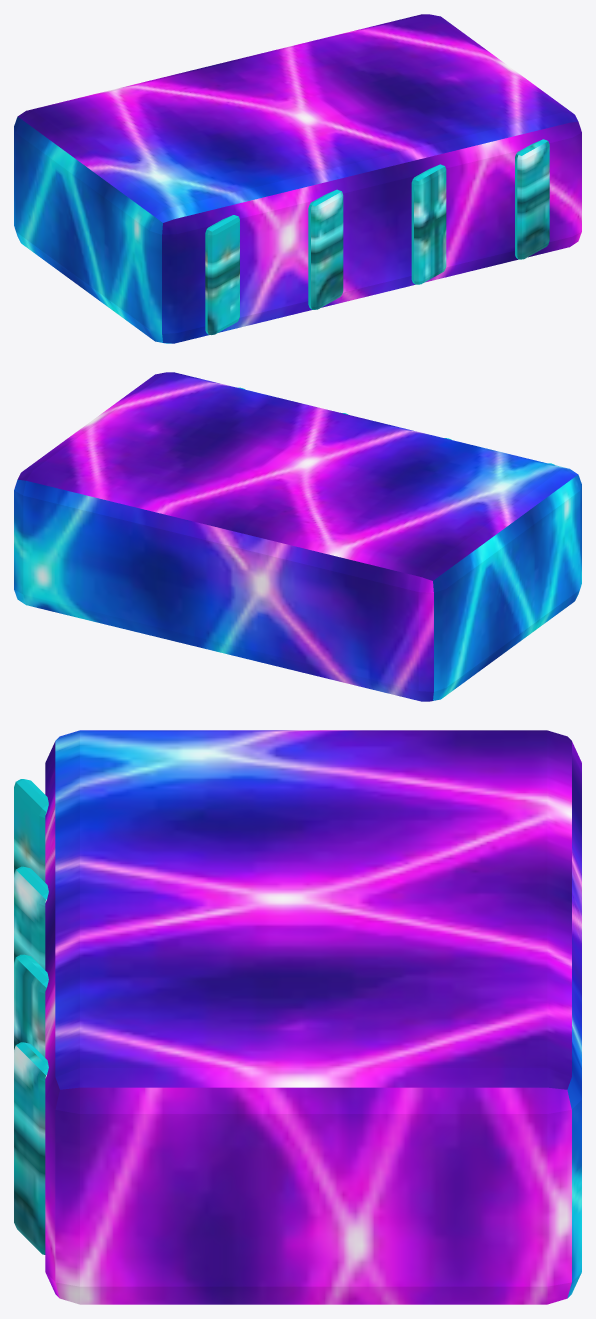
File: turbo_placa.glb
3 views of the same model, one above another, from view 1: azimuth 30°, elevation 25°; view 2: azimuth 150°, elevation 25°; view 3: azimuth 270°, elevation 25° (orthographic). The views are drawn at different scales.
Parts seen in each view (by area): view 1: turbo_placa; view 2: turbo_placa; view 3: turbo_placa.
Part boxes in pixels (box(x1,y1,x2,y2)): turbo_placa: box(14, 14, 581, 343); turbo_placa: box(14, 372, 581, 701); turbo_placa: box(14, 730, 581, 1304).
Bounding box in the file's own units: 1 × 0.3 × 0.6562.
Materials: 2 (2 with a texture image).
